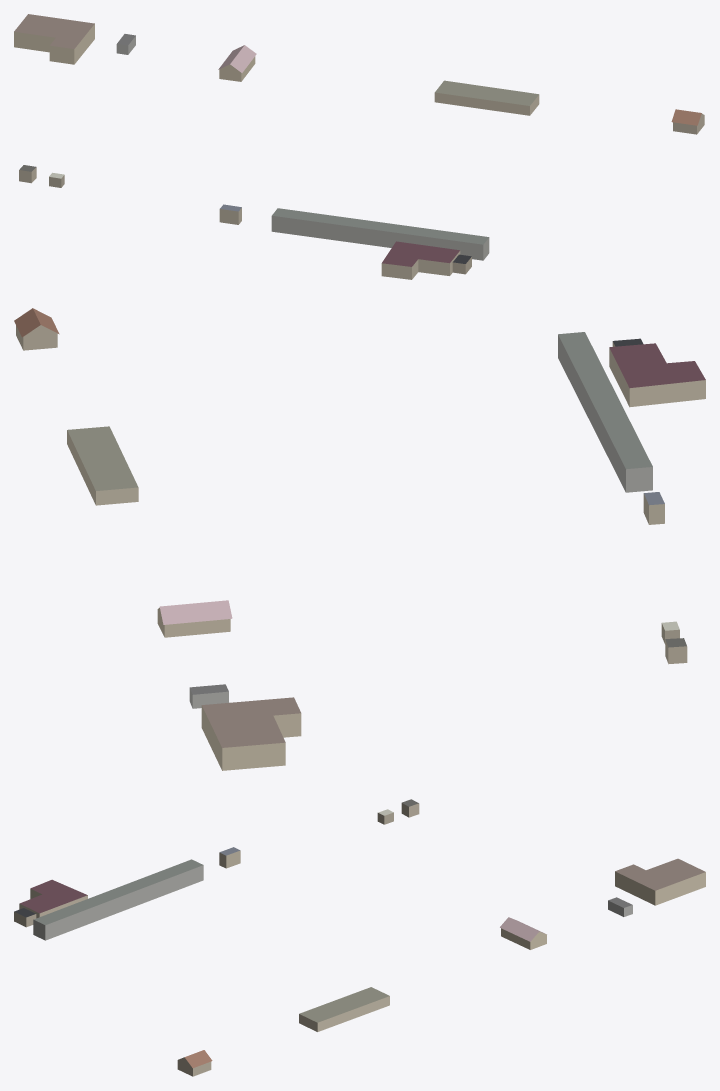
The picture shows the model from 3 angles, top to bottom: view 1: azimuth 30°, elevation 25°; view 2: azimuth 150°, elevation 25°; view 3: azimuth 270°, elevation 25°; orthographic projection. The views are drawn at different scales.
Parts seen in each view (by area): view 1: tuile; view 2: tuile; view 3: tuile.
Boxes of the visible parts, bbox=[...] form: tuile: bbox=[14, 14, 704, 279]; tuile: bbox=[14, 308, 705, 770]; tuile: bbox=[14, 799, 705, 1076].
Bounding box in the file's own units: 211 × 6.79 × 231.
